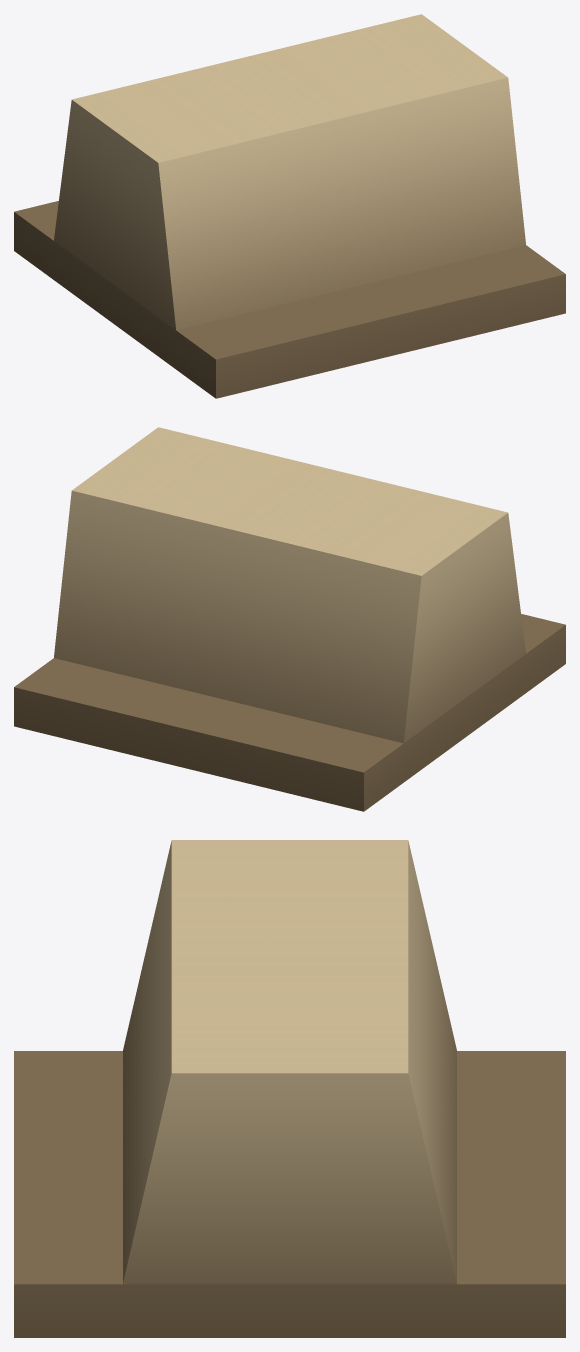
The model's file is SM_WallSide_Clay.fbx.
3 views of the same model, one above another, from view 1: azimuth 30°, elevation 25°; view 2: azimuth 150°, elevation 25°; view 3: azimuth 270°, elevation 25° (orthographic). The views are drawn at different scales.
Parts seen in each view (by area): view 1: WallSide_Clay; view 2: WallSide_Clay; view 3: WallSide_Clay.
Boxes of the visible parts, left/top/right/bottom form: WallSide_Clay: left=14, top=14, right=565, bottom=398; WallSide_Clay: left=14, top=427, right=565, bottom=811; WallSide_Clay: left=14, top=840, right=565, bottom=1337.
Bounding box in the file's own units: 200 × 106 × 200.
